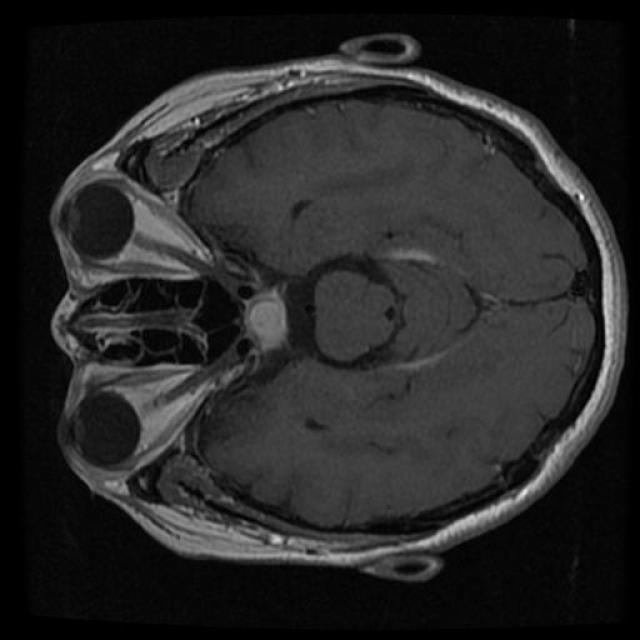Pituitary: (234, 273, 290, 374)
